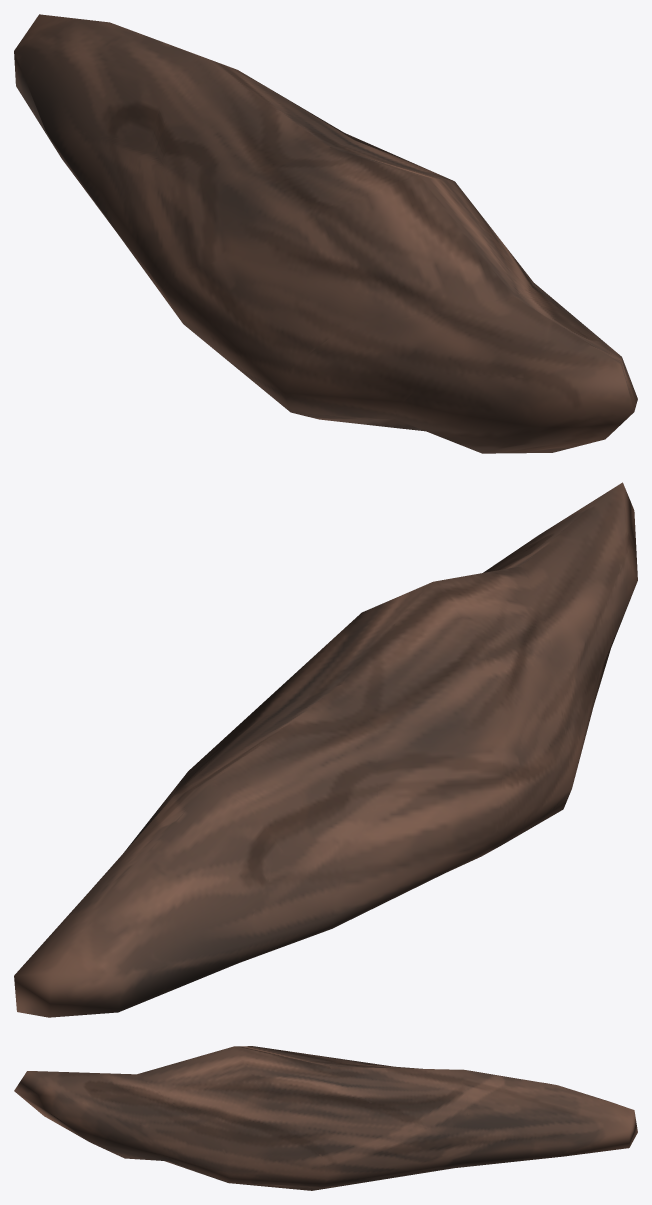
The model's file is Rock2_MESH.fbx.
The picture shows the model from 3 angles, top to bottom: view 1: azimuth 30°, elevation 25°; view 2: azimuth 150°, elevation 25°; view 3: azimuth 270°, elevation 25°; orthographic projection. The views are drawn at different scales.
Visible parts, largest first — view 1: Rock2WIP1:pCube1; view 2: Rock2WIP1:pCube1; view 3: Rock2WIP1:pCube1.
Boxes of the visible parts, x1,y1,x2,y2 form: Rock2WIP1:pCube1: [14, 14, 637, 453]; Rock2WIP1:pCube1: [14, 482, 637, 1017]; Rock2WIP1:pCube1: [14, 1046, 637, 1190].
Bounding box in the file's own units: 8.36 × 6.76 × 29.91.
Materials: 1 (1 with a texture image).
